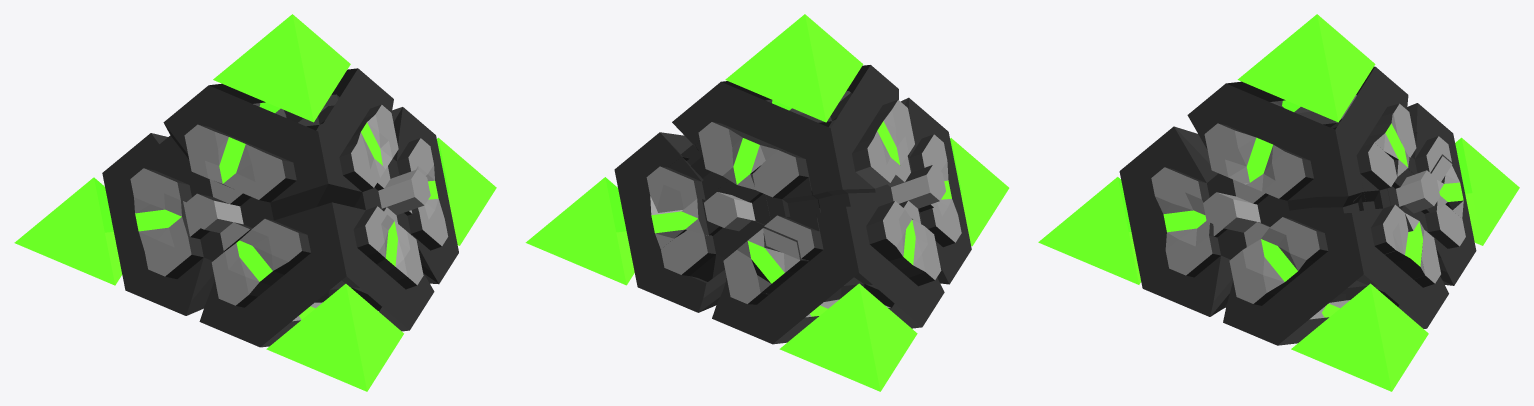
Rendered from tmGs.glb.
The picture shows the model from 3 angles, left to right: view 1: azimuth 30°, elevation 25°; view 2: azimuth 150°, elevation 25°; view 3: azimuth 270°, elevation 25°; orthographic projection.
Visible parts, largest first — view 1: Cone; view 2: Cone; view 3: Cone.
Boxes of the visible parts, box(x1,y1,x2,y2) form: Cone: box(14, 14, 496, 391); Cone: box(525, 14, 1009, 391); Cone: box(1038, 14, 1519, 391).
Bounding box in the file's own units: 0.3346 × 0.2186 × 0.3336.
